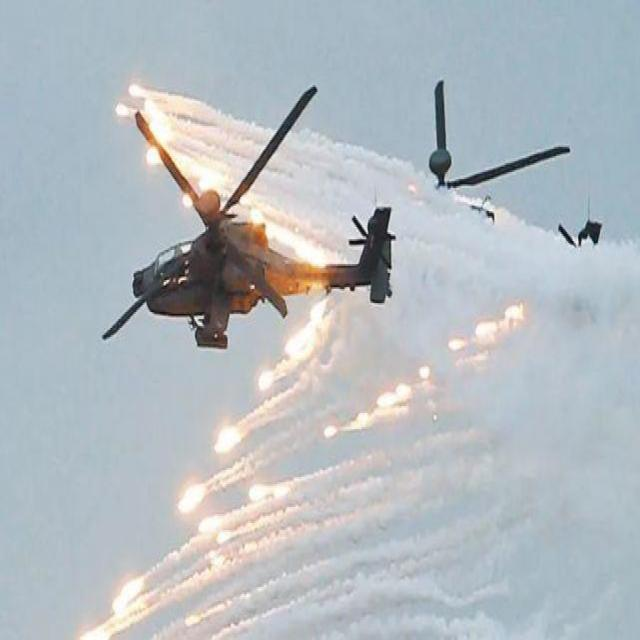MIL_HELO: (101, 80, 401, 380)
